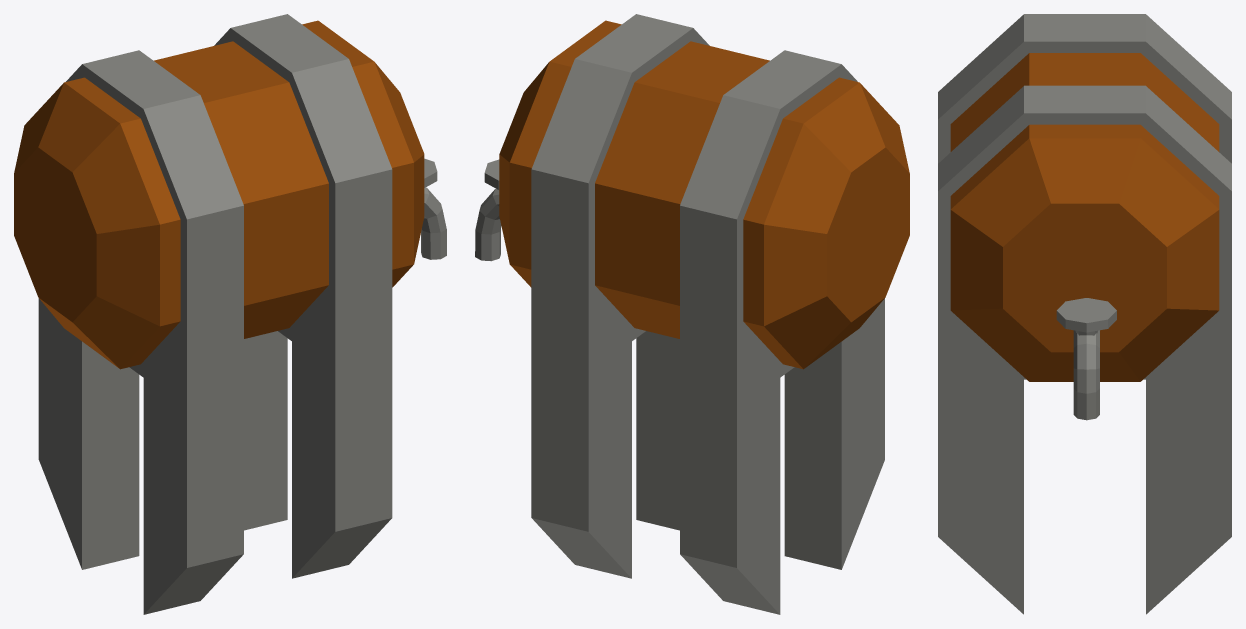
The model's file is BarrelWithWater.fbx.
The picture shows the model from 3 angles, left to right: view 1: azimuth 30°, elevation 25°; view 2: azimuth 150°, elevation 25°; view 3: azimuth 270°, elevation 25°; orthographic projection.
Visible parts, largest first — view 1: Cylinder.003, Cylinder.004; view 2: Cylinder.003, Cylinder.004; view 3: Cylinder.003, Cylinder.004.
Boxes of the visible parts, <box> form: Cylinder.003: <box>14,14,424,614</box>; Cylinder.004: <box>421,158,446,259</box>; Cylinder.003: <box>499,14,909,614</box>; Cylinder.004: <box>475,159,501,261</box>; Cylinder.003: <box>938,14,1231,614</box>; Cylinder.004: <box>1056,298,1116,420</box>.
Bounding box in the file's own units: 405 × 501 × 266.
